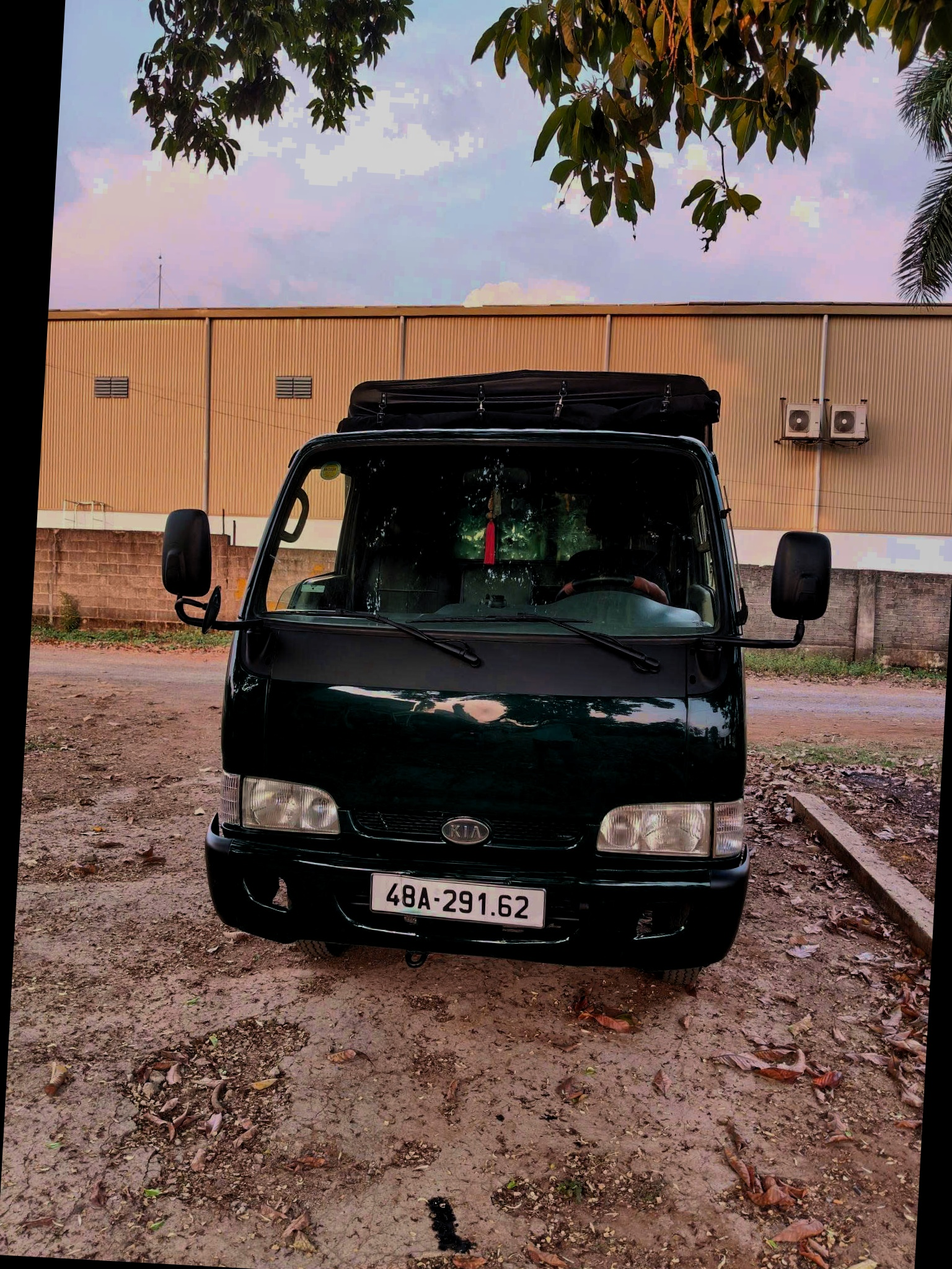Bien-so: (368, 873, 543, 930)
